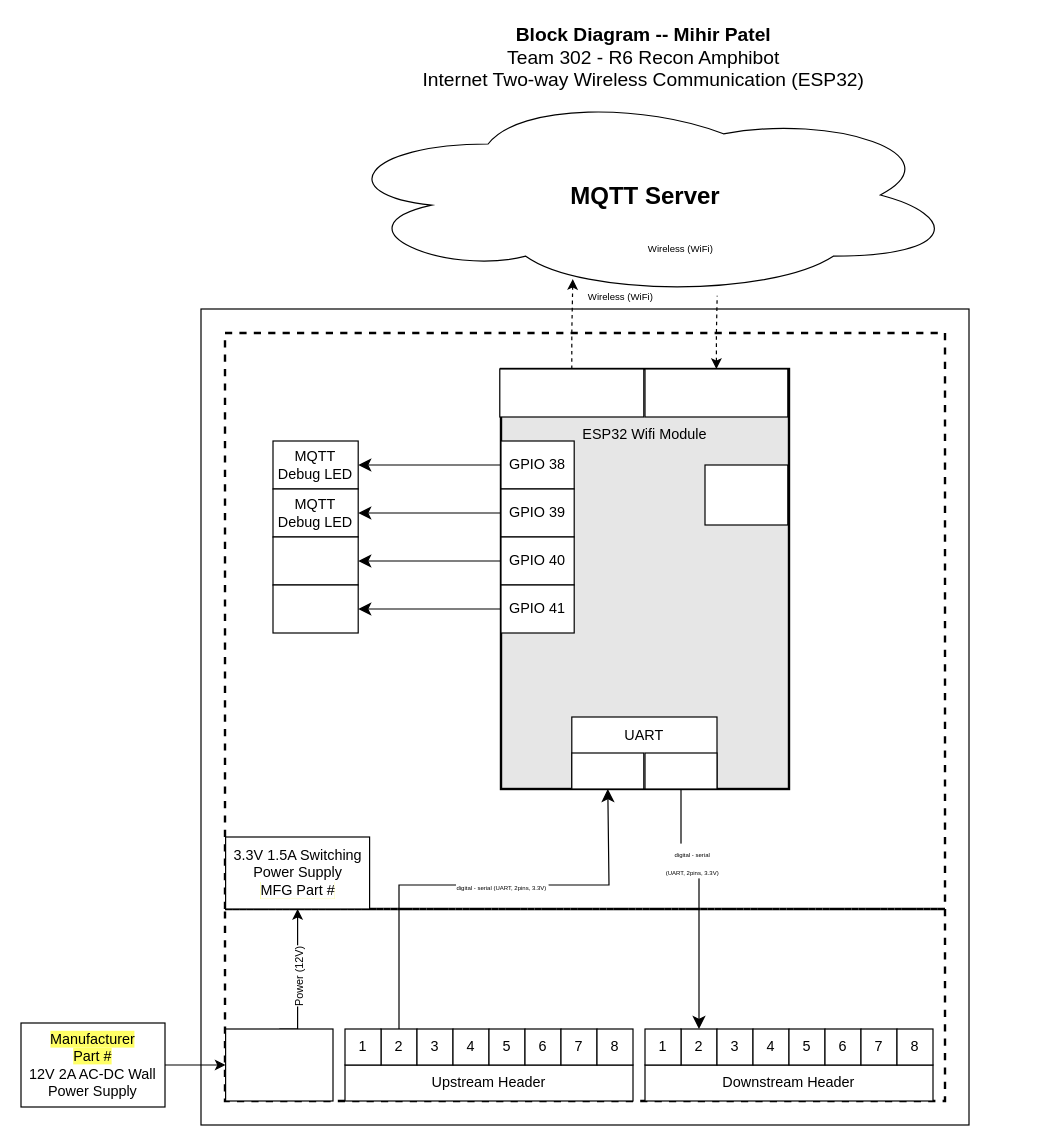
The diagram is 1061 pixels wide and 1146 high, and some of its shapes have lost their labels. The shapes that lost their labels are listed below. From the top down, each one's centre as x and y in pixels, then its label:
At (571,392): "publish PUBLISH_TOPIC".
At (716,392): "subscribe SUBSCRIBE_TOPIC".
At (746,494): "Camera (ESP32-CAM / OV2640)".
At (315,560): "RX Debug LED".
At (315,608): "TX Debug LED".
At (607,770): "RX".
At (680,770): "TX".
At (278,1064): "Barrel Jack Adapter".
